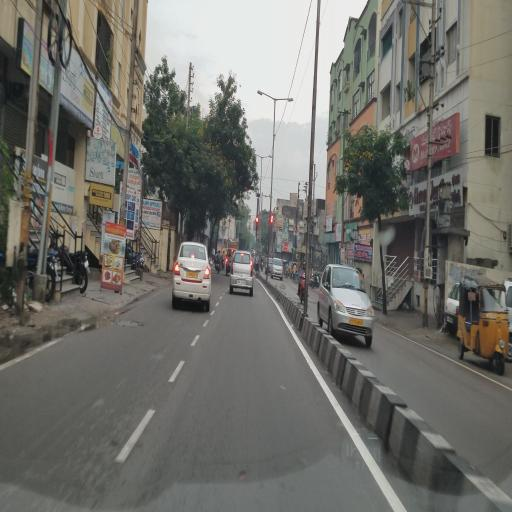street_light_0: (275, 85, 297, 111), (254, 83, 276, 109), (260, 147, 274, 169)
